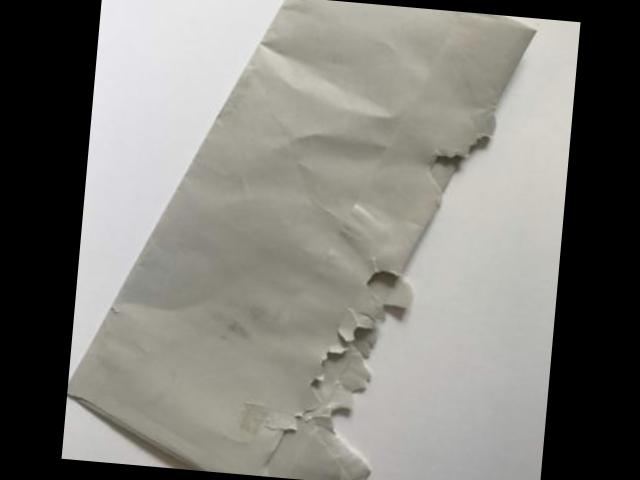cardboard paper: (66, 0, 530, 480)
